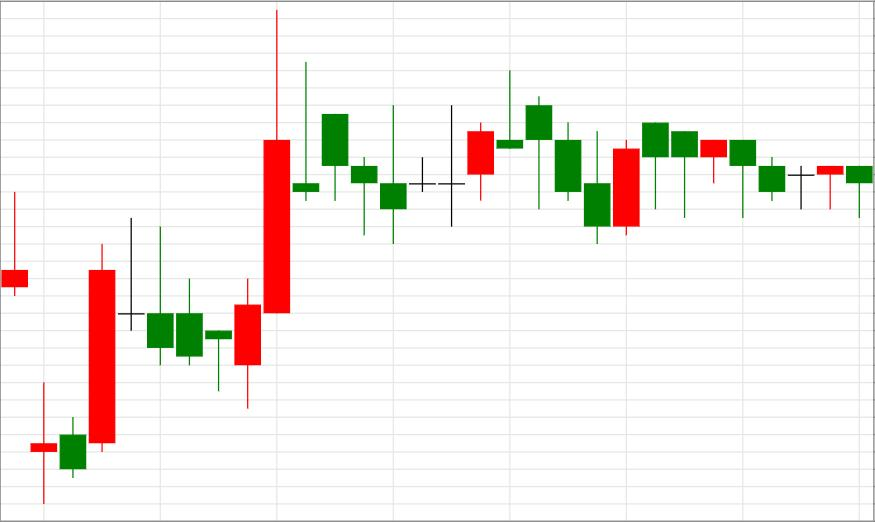hanging_man_fall: (379, 71, 552, 245)
